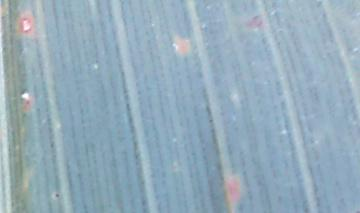tarspot: (242, 14, 264, 30), (313, 1, 322, 9), (53, 191, 61, 199), (207, 117, 214, 124)
